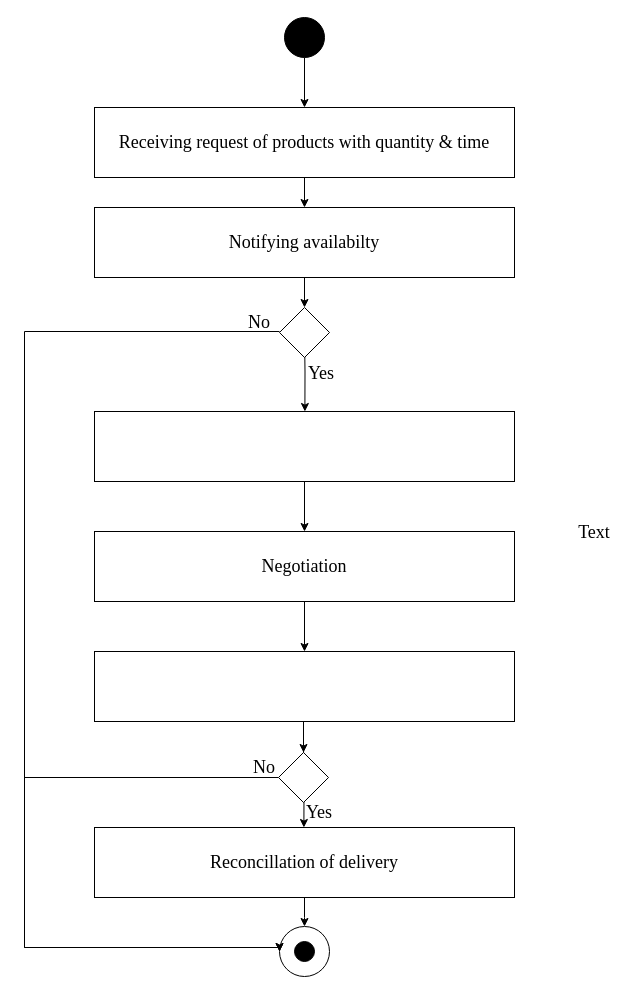
Image size: 642x994. Some labels were removed from this diagram. The shapes that lost their labels are listed below. From the top down, each one's box as (x1, y1, x2, y2) in pixels, then its label:
(94, 410, 514, 482): Ask for quotation
(94, 650, 514, 722): Confirmation/Negation of request
